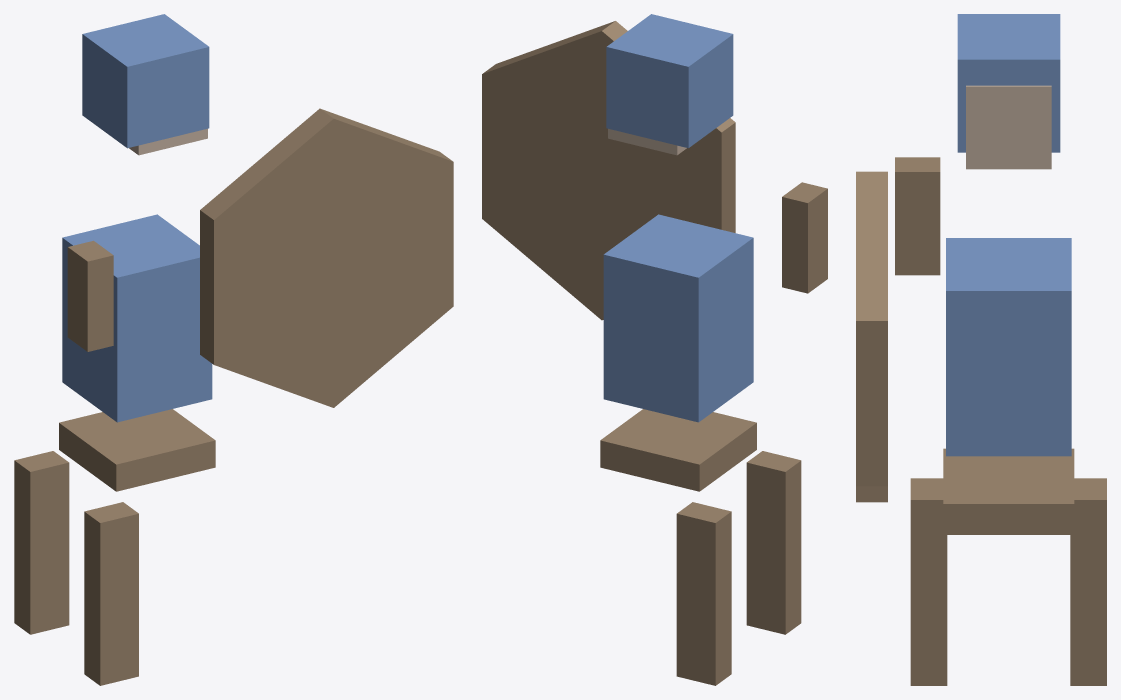
The model's file is vanguard_archer.glb.
3 views of the same model, side by side, from view 1: azimuth 30°, elevation 25°; view 2: azimuth 150°, elevation 25°; view 3: azimuth 270°, elevation 25° (orthographic). The views are drawn at different scales.
Parts seen in each view (by area): view 1: vanguard_archer; view 2: vanguard_archer; view 3: vanguard_archer.
Part boxes in pixels (x1,y1,x2,y2): vanguard_archer: (14,14,453,685); vanguard_archer: (482,14,827,685); vanguard_archer: (856,14,1106,685).
Bounding box in the file's own units: 20.18 × 32.75 × 11.
